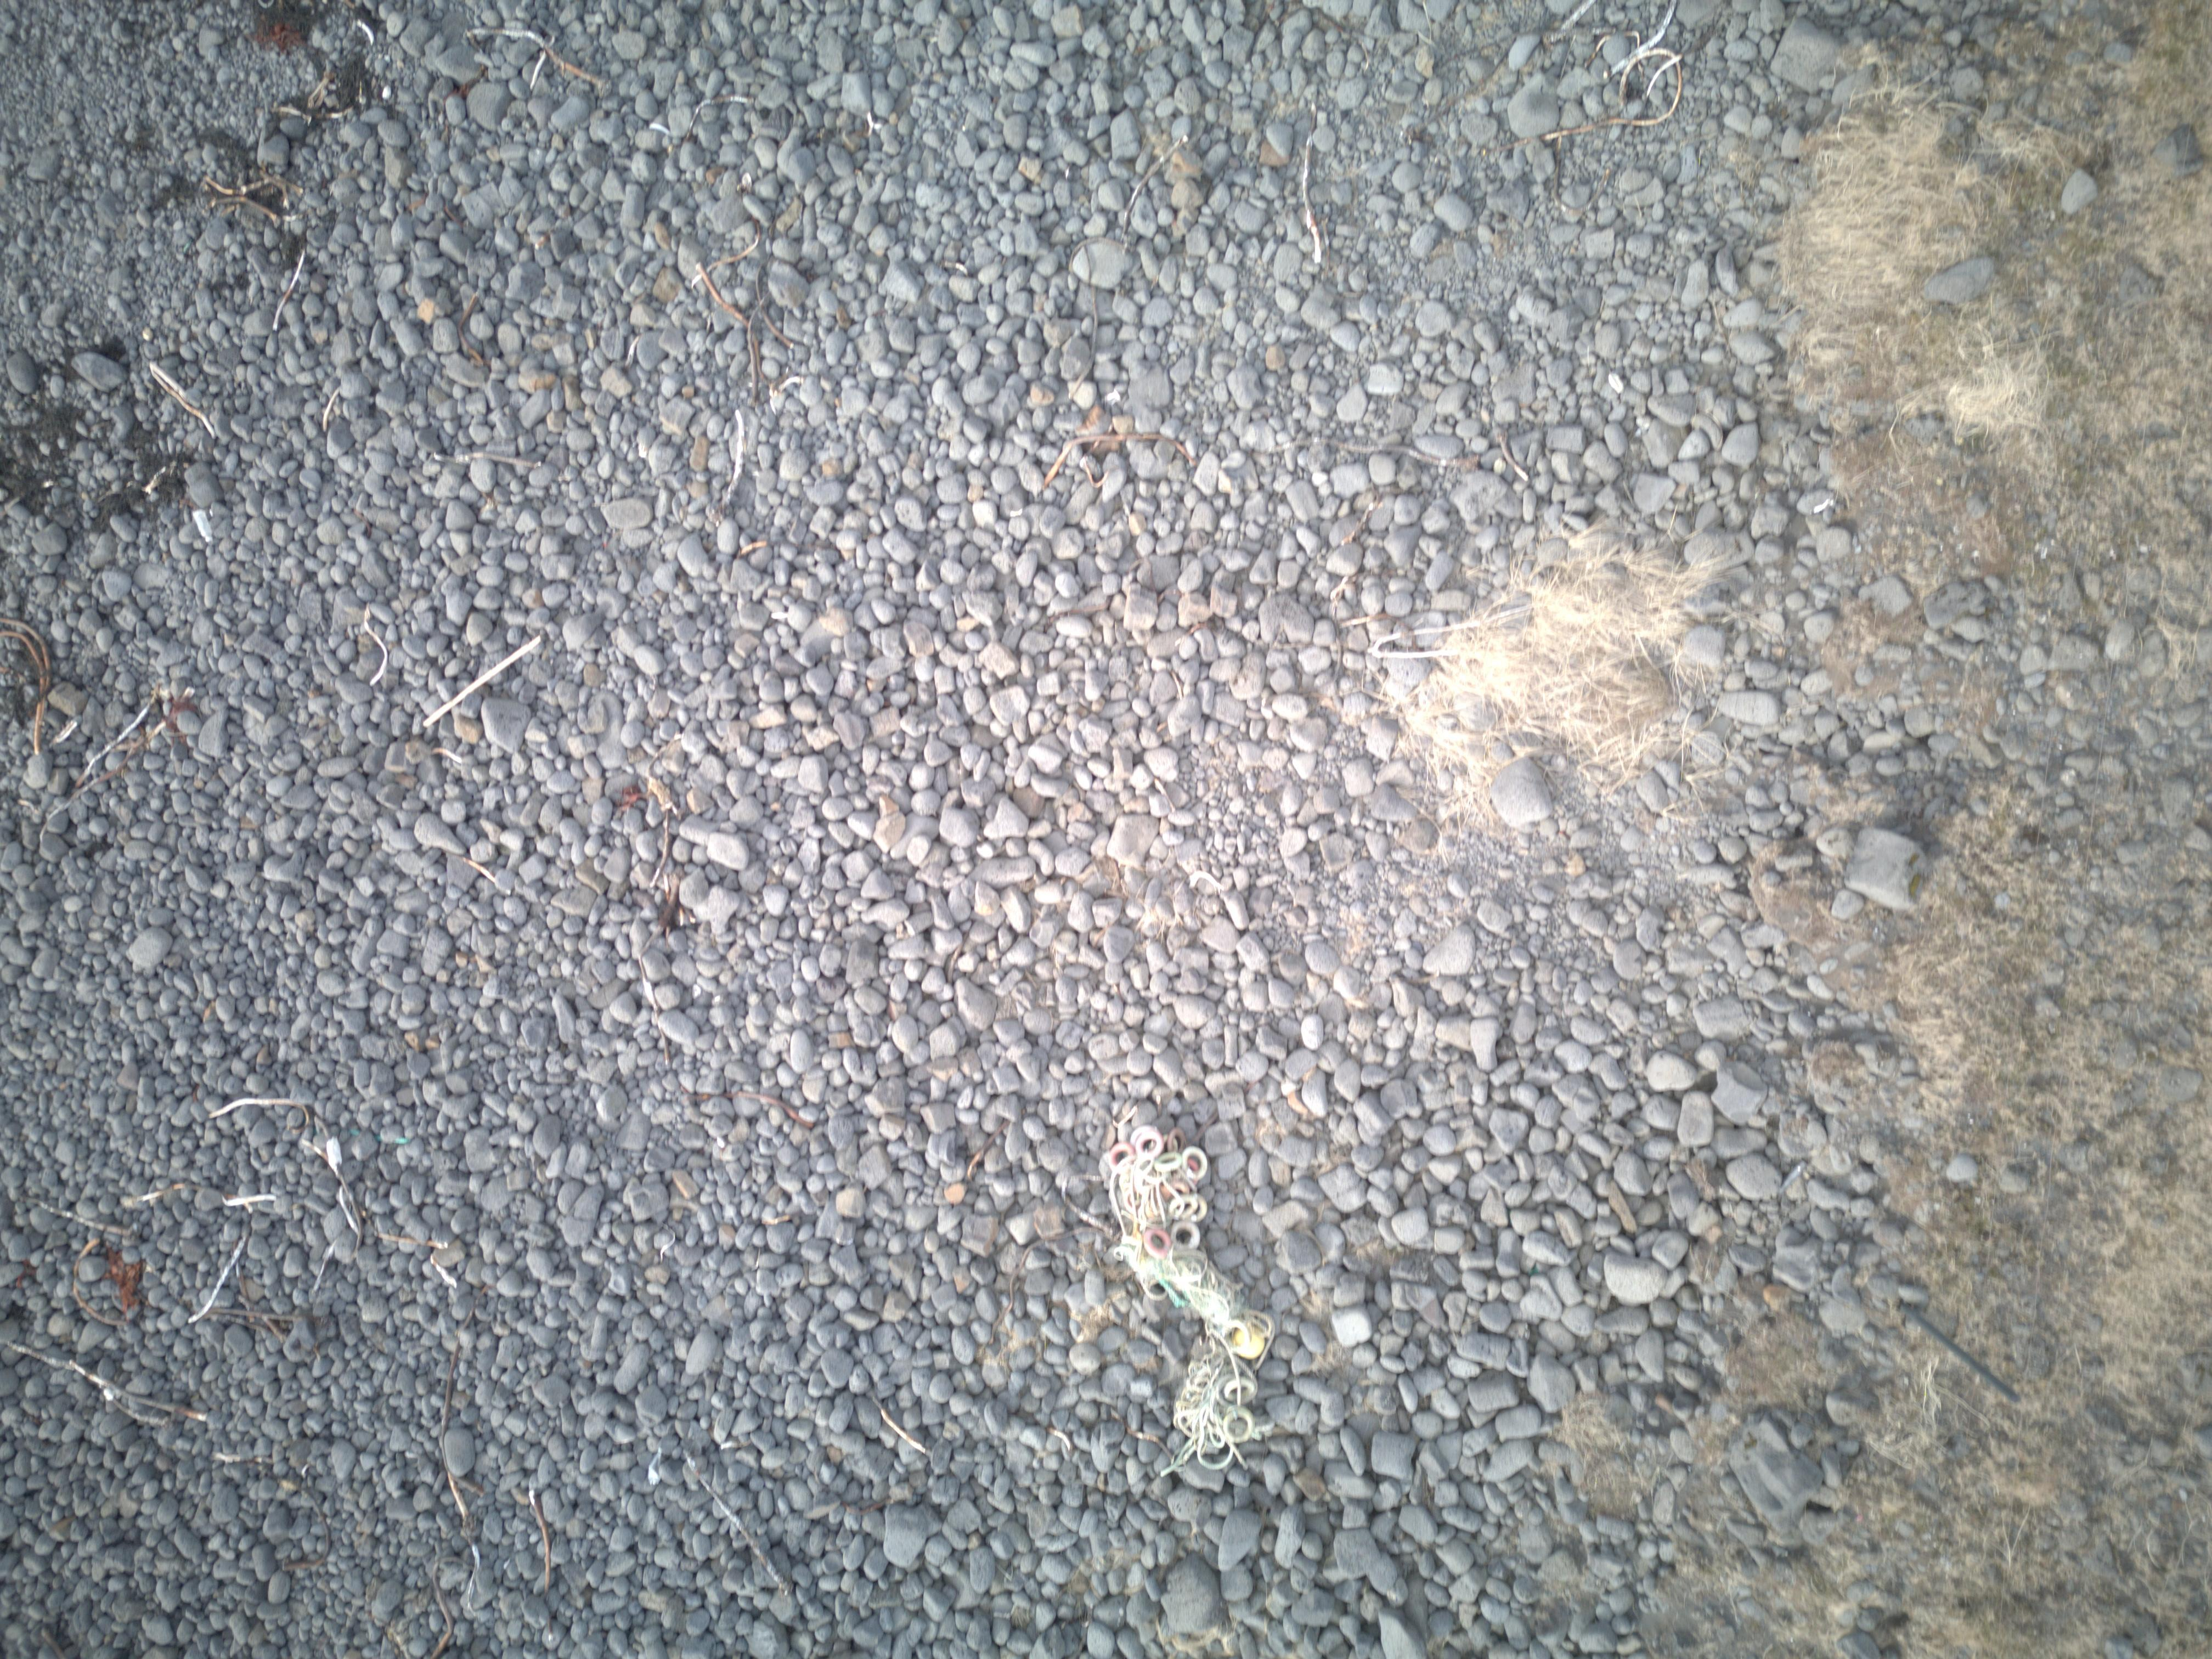trash: (1106, 1127, 1274, 1473), (194, 510, 212, 544)
